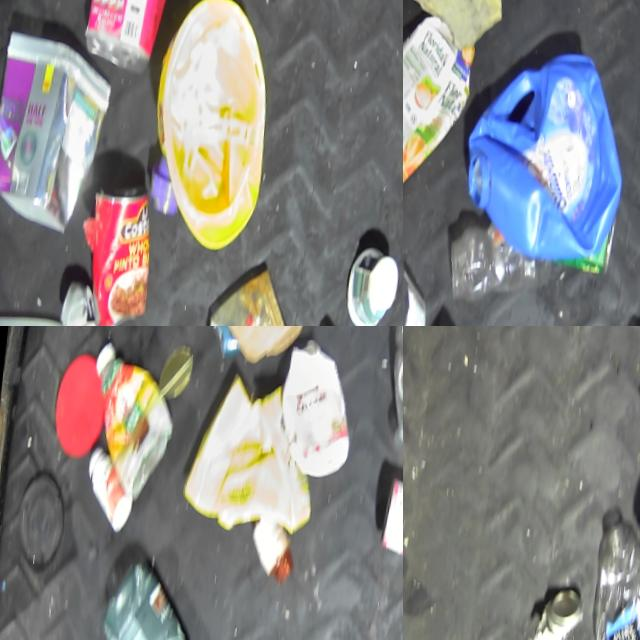can: (78, 163, 164, 326), (526, 559, 589, 640), (370, 460, 403, 558)
milk_jug: (271, 326, 363, 472), (0, 294, 105, 326)
non_white_jug: (455, 28, 632, 271), (176, 358, 323, 576), (82, 330, 180, 500), (94, 549, 208, 640)
plastic_bottle: (82, 0, 187, 77), (582, 504, 640, 640), (378, 326, 403, 455)
